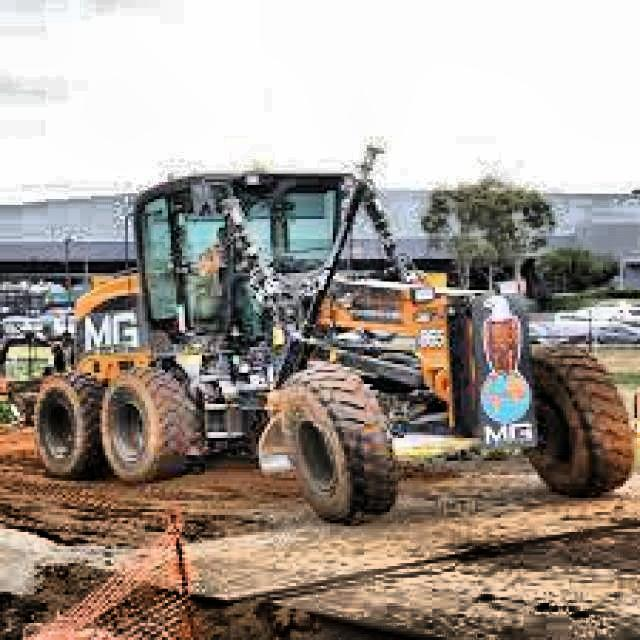bull_dozer/loader/grader: (30, 153, 636, 523)
person: (202, 226, 226, 271)
